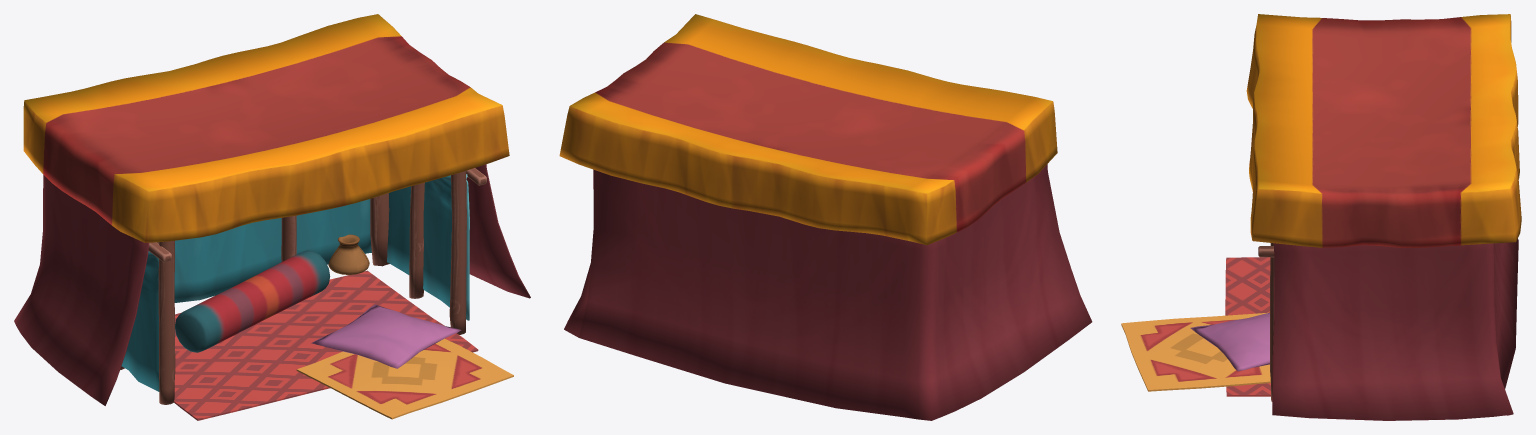
The model's file is tent.fbx.
3 views of the same model, side by side, from view 1: azimuth 30°, elevation 25°; view 2: azimuth 150°, elevation 25°; view 3: azimuth 270°, elevation 25° (orthographic).
Parts seen in each view (by area): view 1: tent1_low, tent4_low, tent5_low, tent6_low, tent7_low, cwood1_low002, cwood1_low, cwood2_low002, cwood3_low002, tent8_low, cwood1_low003; view 2: tent1_low; view 3: tent1_low, tent5_low, tent4_low, tent7_low, cwood1_low002.
Part boxes in pixels (x1,y1,x2,y2): tent1_low: (14,14,530,405); tent4_low: (173,270,478,420); tent5_low: (296,338,513,419); tent6_low: (175,250,330,352); tent7_low: (311,304,461,368); cwood1_low002: (449,171,466,334); cwood1_low: (158,240,175,404); cwood2_low002: (409,182,424,298); cwood3_low002: (370,193,389,266); tent8_low: (328,234,369,274); cwood1_low003: (281,215,296,261); tent1_low: (559,14,1092,420); tent1_low: (1246,14,1521,420); tent5_low: (1121,312,1270,391); tent4_low: (1225,257,1270,396); tent7_low: (1190,312,1269,371); cwood1_low002: (1270,243,1274,401).
Size of the model in its own units: 2969 by 2360 by 1546.
